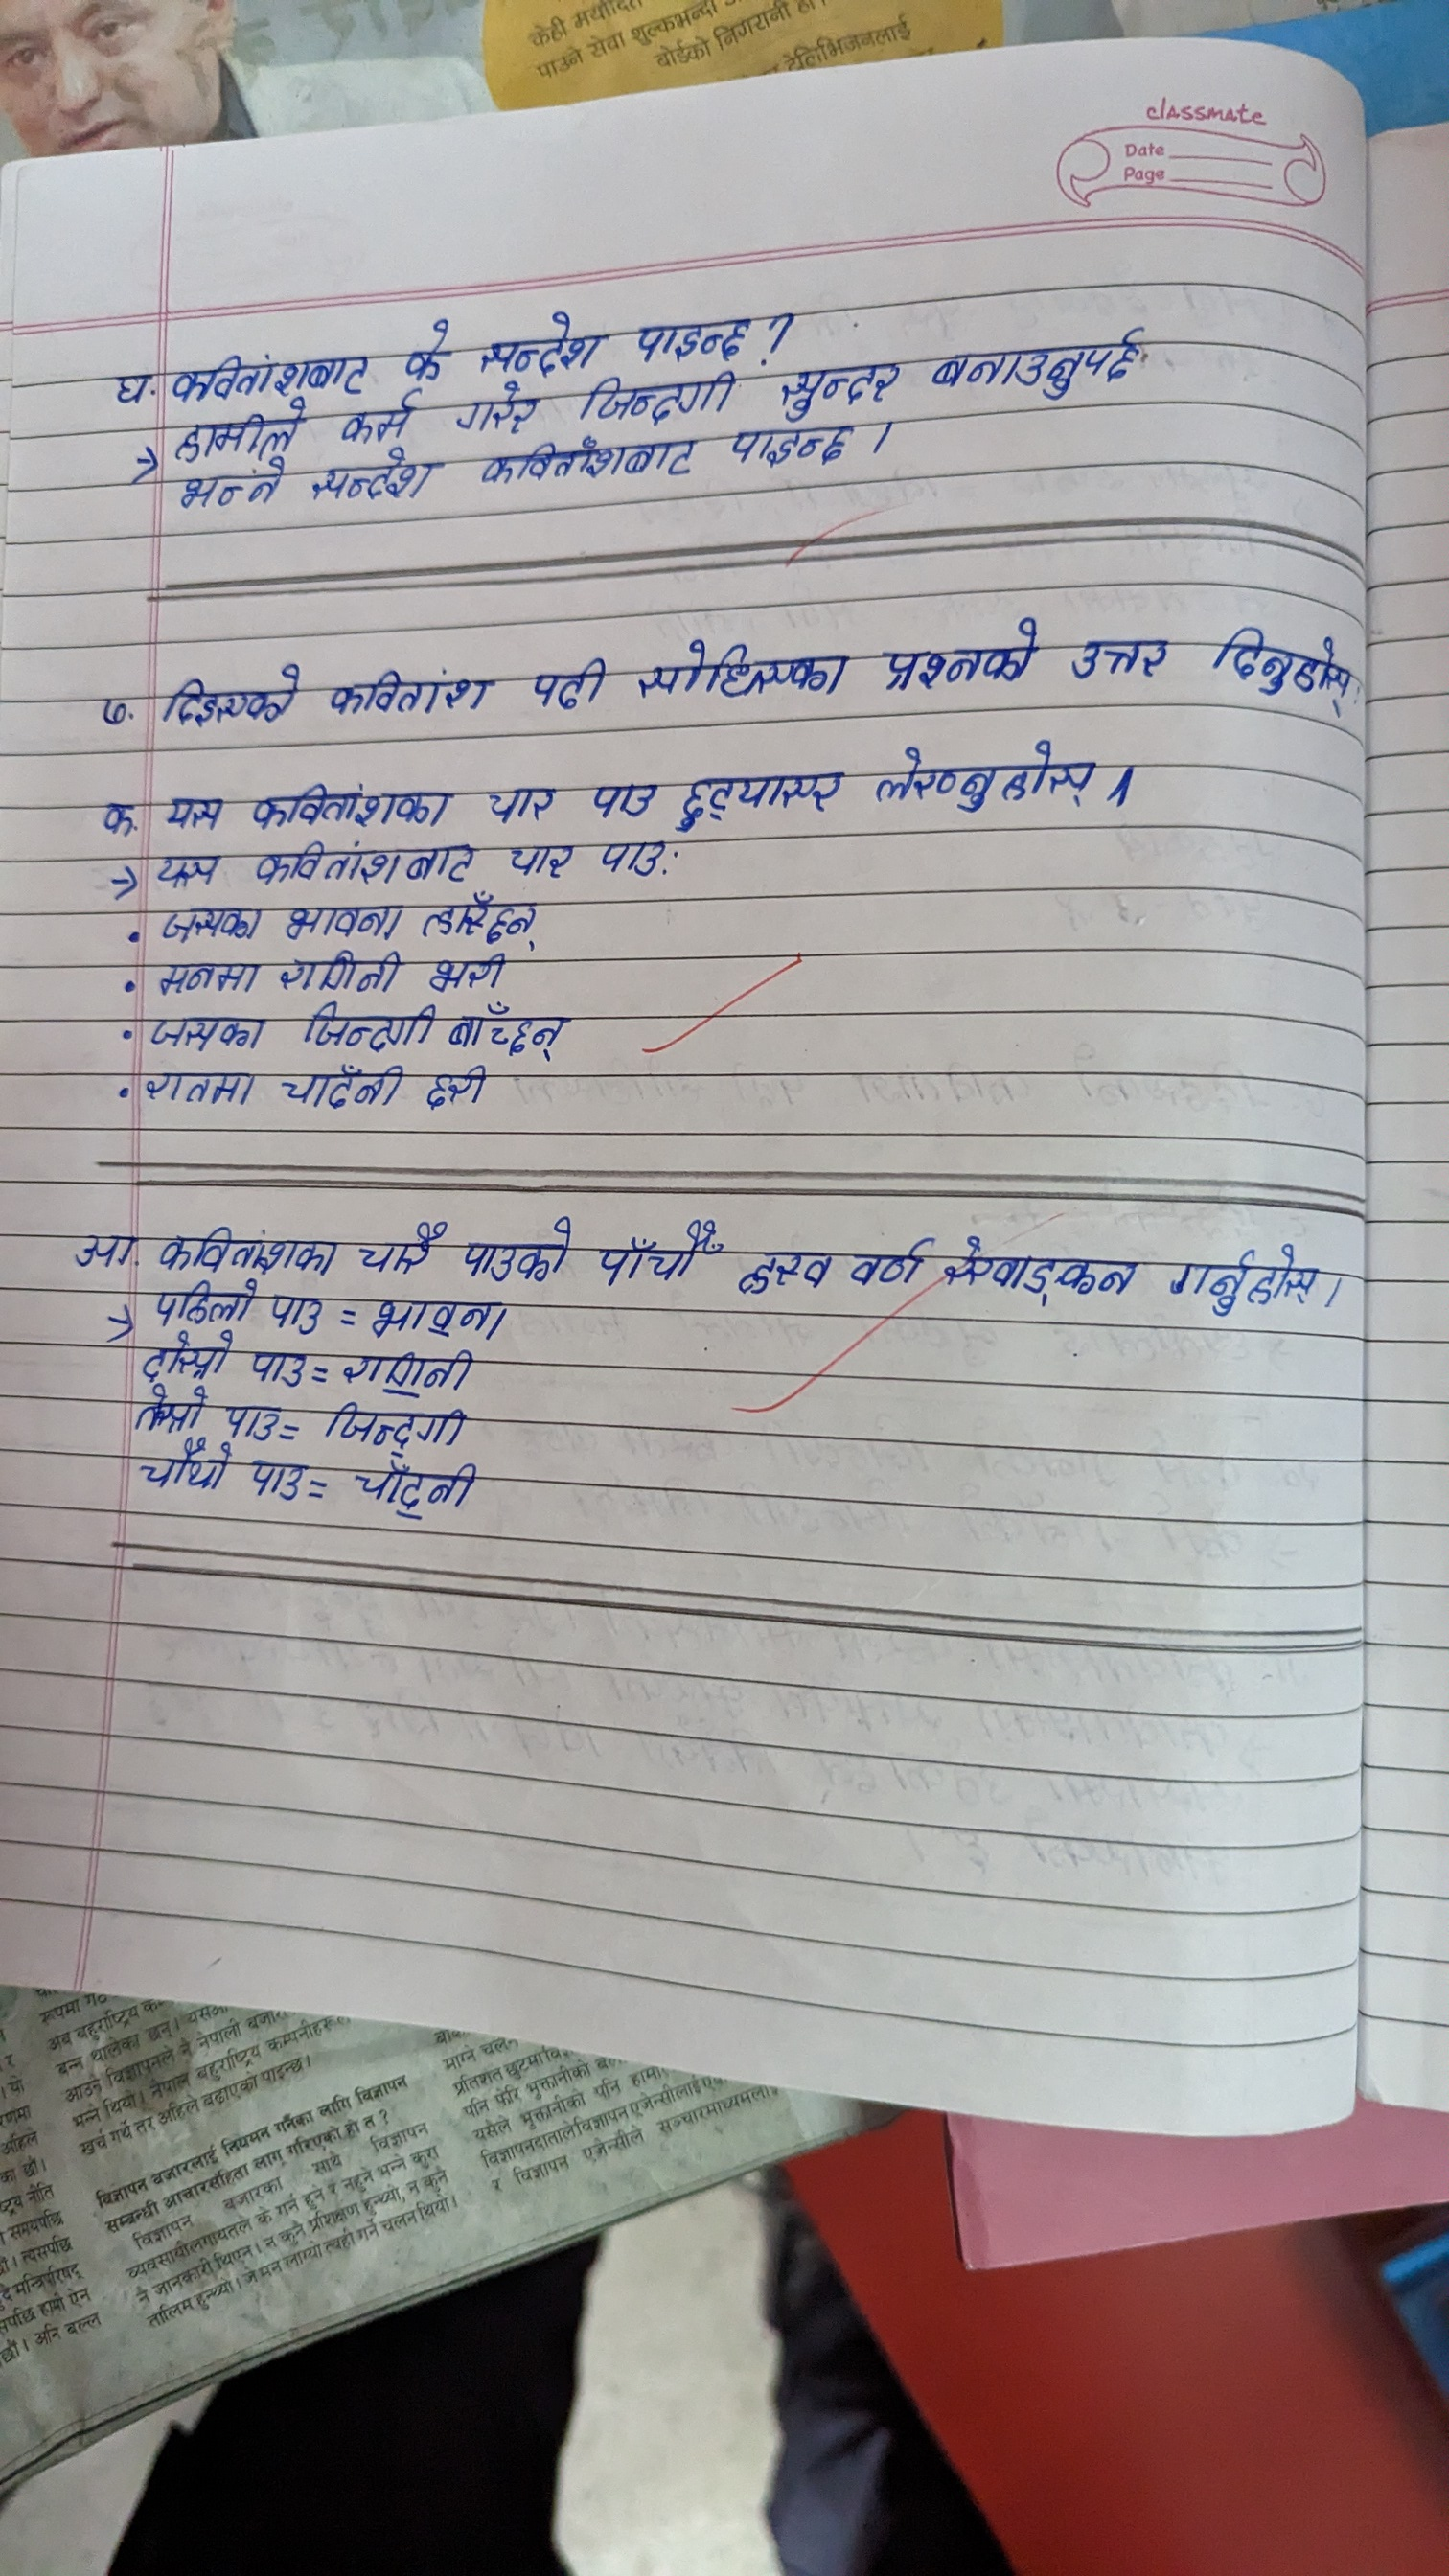text: (929, 317, 1155, 402), (878, 741, 1099, 816), (1200, 623, 1359, 715), (623, 635, 847, 699), (943, 1237, 1139, 1304), (876, 616, 1042, 692), (159, 660, 311, 734), (246, 777, 449, 830), (251, 842, 476, 890), (674, 768, 846, 830), (1168, 1242, 1318, 1311), (327, 663, 492, 724), (479, 439, 699, 483), (350, 1461, 499, 1525), (364, 1288, 522, 1346), (156, 1226, 333, 1277), (593, 1214, 713, 1288), (172, 350, 372, 395), (313, 451, 458, 511), (456, 1210, 577, 1283), (476, 308, 600, 373), (168, 402, 310, 458), (324, 1399, 476, 1447), (303, 1003, 442, 1054), (580, 375, 736, 419), (341, 1345, 478, 1394), (771, 366, 909, 414), (1063, 623, 1171, 683), (421, 895, 548, 945), (451, 1003, 568, 1056), (173, 464, 294, 515), (281, 1063, 403, 1111), (145, 1010, 271, 1056), (122, 1444, 234, 1495), (633, 311, 748, 361), (278, 952, 398, 998), (531, 649, 610, 718), (150, 1281, 262, 1329), (149, 957, 265, 1001), (846, 1224, 929, 1286), (738, 1242, 824, 1299), (725, 430, 862, 465), (278, 904, 407, 941), (149, 899, 264, 939), (145, 1067, 258, 1108), (145, 1330, 230, 1382), (357, 1217, 439, 1270), (458, 386, 545, 432), (596, 833, 672, 881), (396, 322, 455, 384), (134, 1385, 203, 1435), (265, 1281, 327, 1336), (425, 954, 508, 994), (423, 1067, 492, 1115), (341, 398, 418, 439), (481, 784, 557, 823), (584, 780, 660, 819), (73, 1230, 136, 1274), (154, 849, 223, 890), (159, 798, 226, 837), (502, 846, 568, 883), (108, 361, 150, 418), (92, 686, 138, 738), (249, 1461, 304, 1504), (90, 794, 134, 844), (219, 1401, 280, 1437), (251, 1352, 306, 1387)
